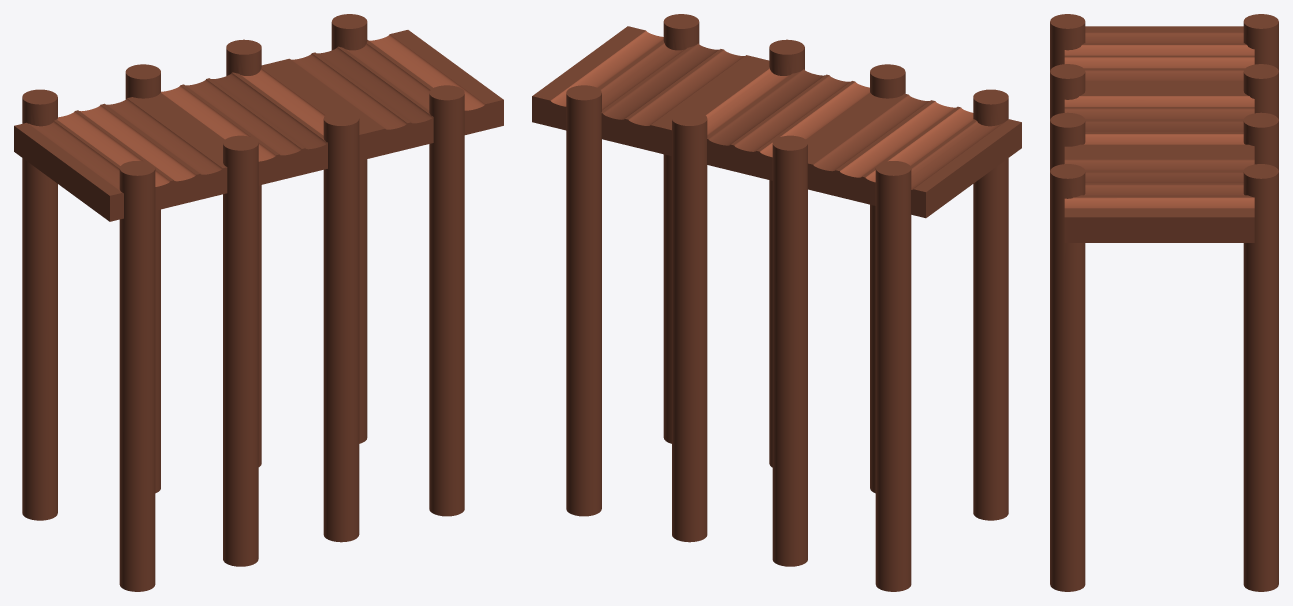
Rendered from preHarborPier3.fbx.
3 views of the same model, side by side, from view 1: azimuth 30°, elevation 25°; view 2: azimuth 150°, elevation 25°; view 3: azimuth 270°, elevation 25° (orthographic).
Parts seen in each view (by area): view 1: Model; view 2: Model; view 3: Model.
Part boxes in pixels (x1=…): Model: x1=14, y1=14, x2=503, y2=591; Model: x1=532, y1=14, x2=1021, y2=591; Model: x1=1050, y1=14, x2=1278, y2=591.
Size of the model in its own units: 1141 by 1152 by 578.
